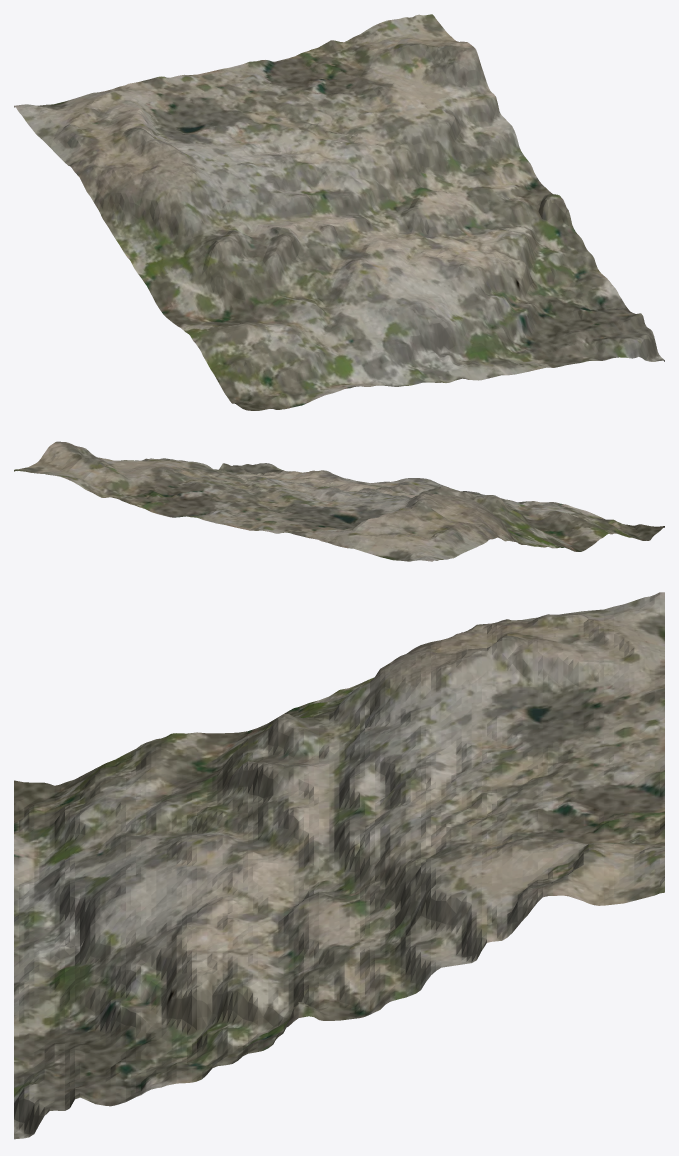
The picture shows the model from 3 angles, top to bottom: view 1: azimuth 30°, elevation 25°; view 2: azimuth 150°, elevation 25°; view 3: azimuth 270°, elevation 25°; orthographic projection. The views are drawn at different scales.
Bounding box in the file's own units: 250 × 108 × 241.
Materials: 1 (1 with a texture image).
